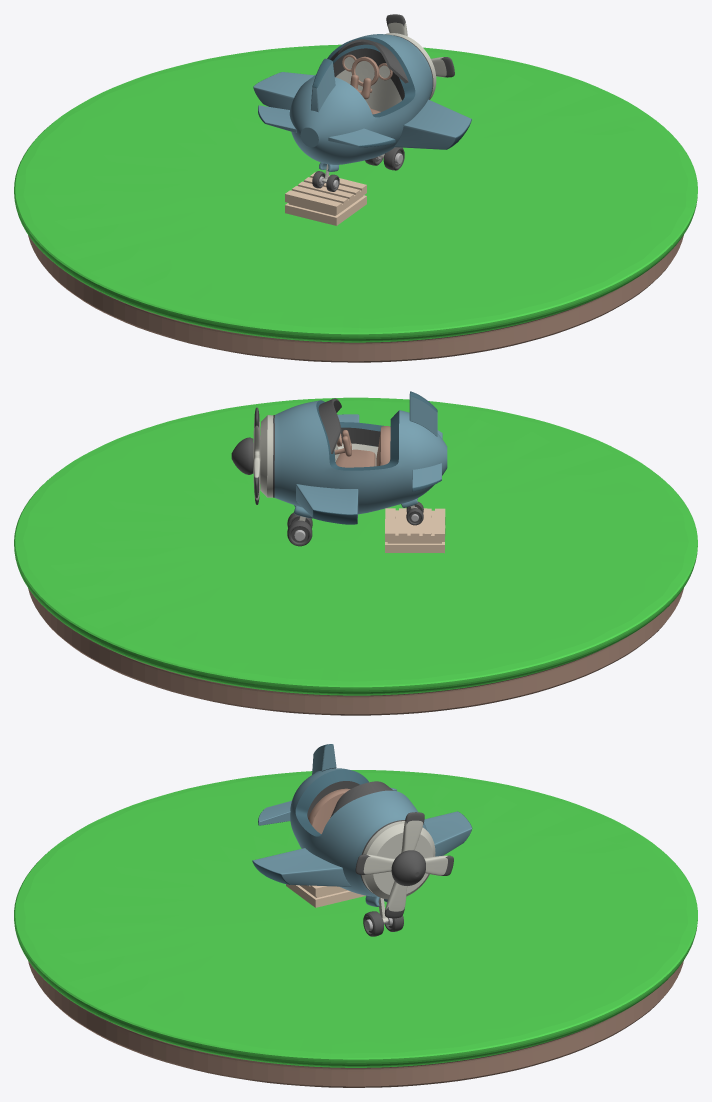
The model's file is PlaneMate.glb.
3 renders of one model, top to bottom at view 1: azimuth 30°, elevation 25°; view 2: azimuth 150°, elevation 25°; view 3: azimuth 270°, elevation 25°, orthographic.
Visible parts, largest first — view 1: platform.002, plane.002, wing.002, woodbox, wingback.002, planebutton.002, wingtop.002, propel, windsheild.002, insideplane.002, circle.001; view 2: platform.002, plane.002, woodbox, wing.002, wingtop.002, windsheild.002, fronwheel.002, propel, top.002, wingback.002, bottomseat.002, insideplane.002; view 3: platform.002, plane.002, wing.002, propel, woodbox, top.002, backseat.002, fronwheel.002, windsheild.002, wingback.002, wingtop.002.
Part boxes in pixels (x1=…): platform.002: x1=14, y1=44, x2=697, y2=362; plane.002: x1=289, y1=33, x2=436, y2=164; wing.002: x1=253, y1=72, x2=471, y2=149; woodbox: x1=285, y1=172, x2=366, y2=225; wingback.002: x1=258, y1=105, x2=395, y2=147; planebutton.002: x1=336, y1=70, x2=401, y2=111; wingtop.002: x1=311, y1=58, x2=335, y2=112; propel: x1=386, y1=14, x2=454, y2=77; windsheild.002: x1=330, y1=39, x2=408, y2=83; insideplane.002: x1=333, y1=48, x2=404, y2=100; circle.001: x1=351, y1=56, x2=379, y2=86; platform.002: x1=14, y1=397, x2=697, y2=715; plane.002: x1=260, y1=400, x2=447, y2=514; woodbox: x1=385, y1=508, x2=445, y2=553; wing.002: x1=296, y1=414, x2=359, y2=524; wingtop.002: x1=409, y1=391, x2=437, y2=436; windsheild.002: x1=318, y1=398, x2=341, y2=453; fronwheel.002: x1=287, y1=512, x2=312, y2=546; propel: x1=253, y1=407, x2=260, y2=504; top.002: x1=231, y1=437, x2=253, y2=474; wingback.002: x1=412, y1=430, x2=442, y2=491; bottomseat.002: x1=335, y1=449, x2=375, y2=467; insideplane.002: x1=341, y1=427, x2=380, y2=446; platform.002: x1=14, y1=770, x2=697, y2=1087; plane.002: x1=290, y1=768, x2=435, y2=899; wing.002: x1=252, y1=811, x2=472, y2=886; propel: x1=355, y1=812, x2=453, y2=918; woodbox: x1=286, y1=884, x2=365, y2=907; top.002: x1=391, y1=850, x2=425, y2=885; backseat.002: x1=308, y1=788, x2=350, y2=833; fronwheel.002: x1=363, y1=911, x2=403, y2=936; windsheild.002: x1=330, y1=781, x2=393, y2=817; wingback.002: x1=258, y1=787, x2=396, y2=825; wingtop.002: x1=312, y1=744, x2=336, y2=774.
Bounding box in the file's own units: 17.09 × 5.15 × 17.09.
